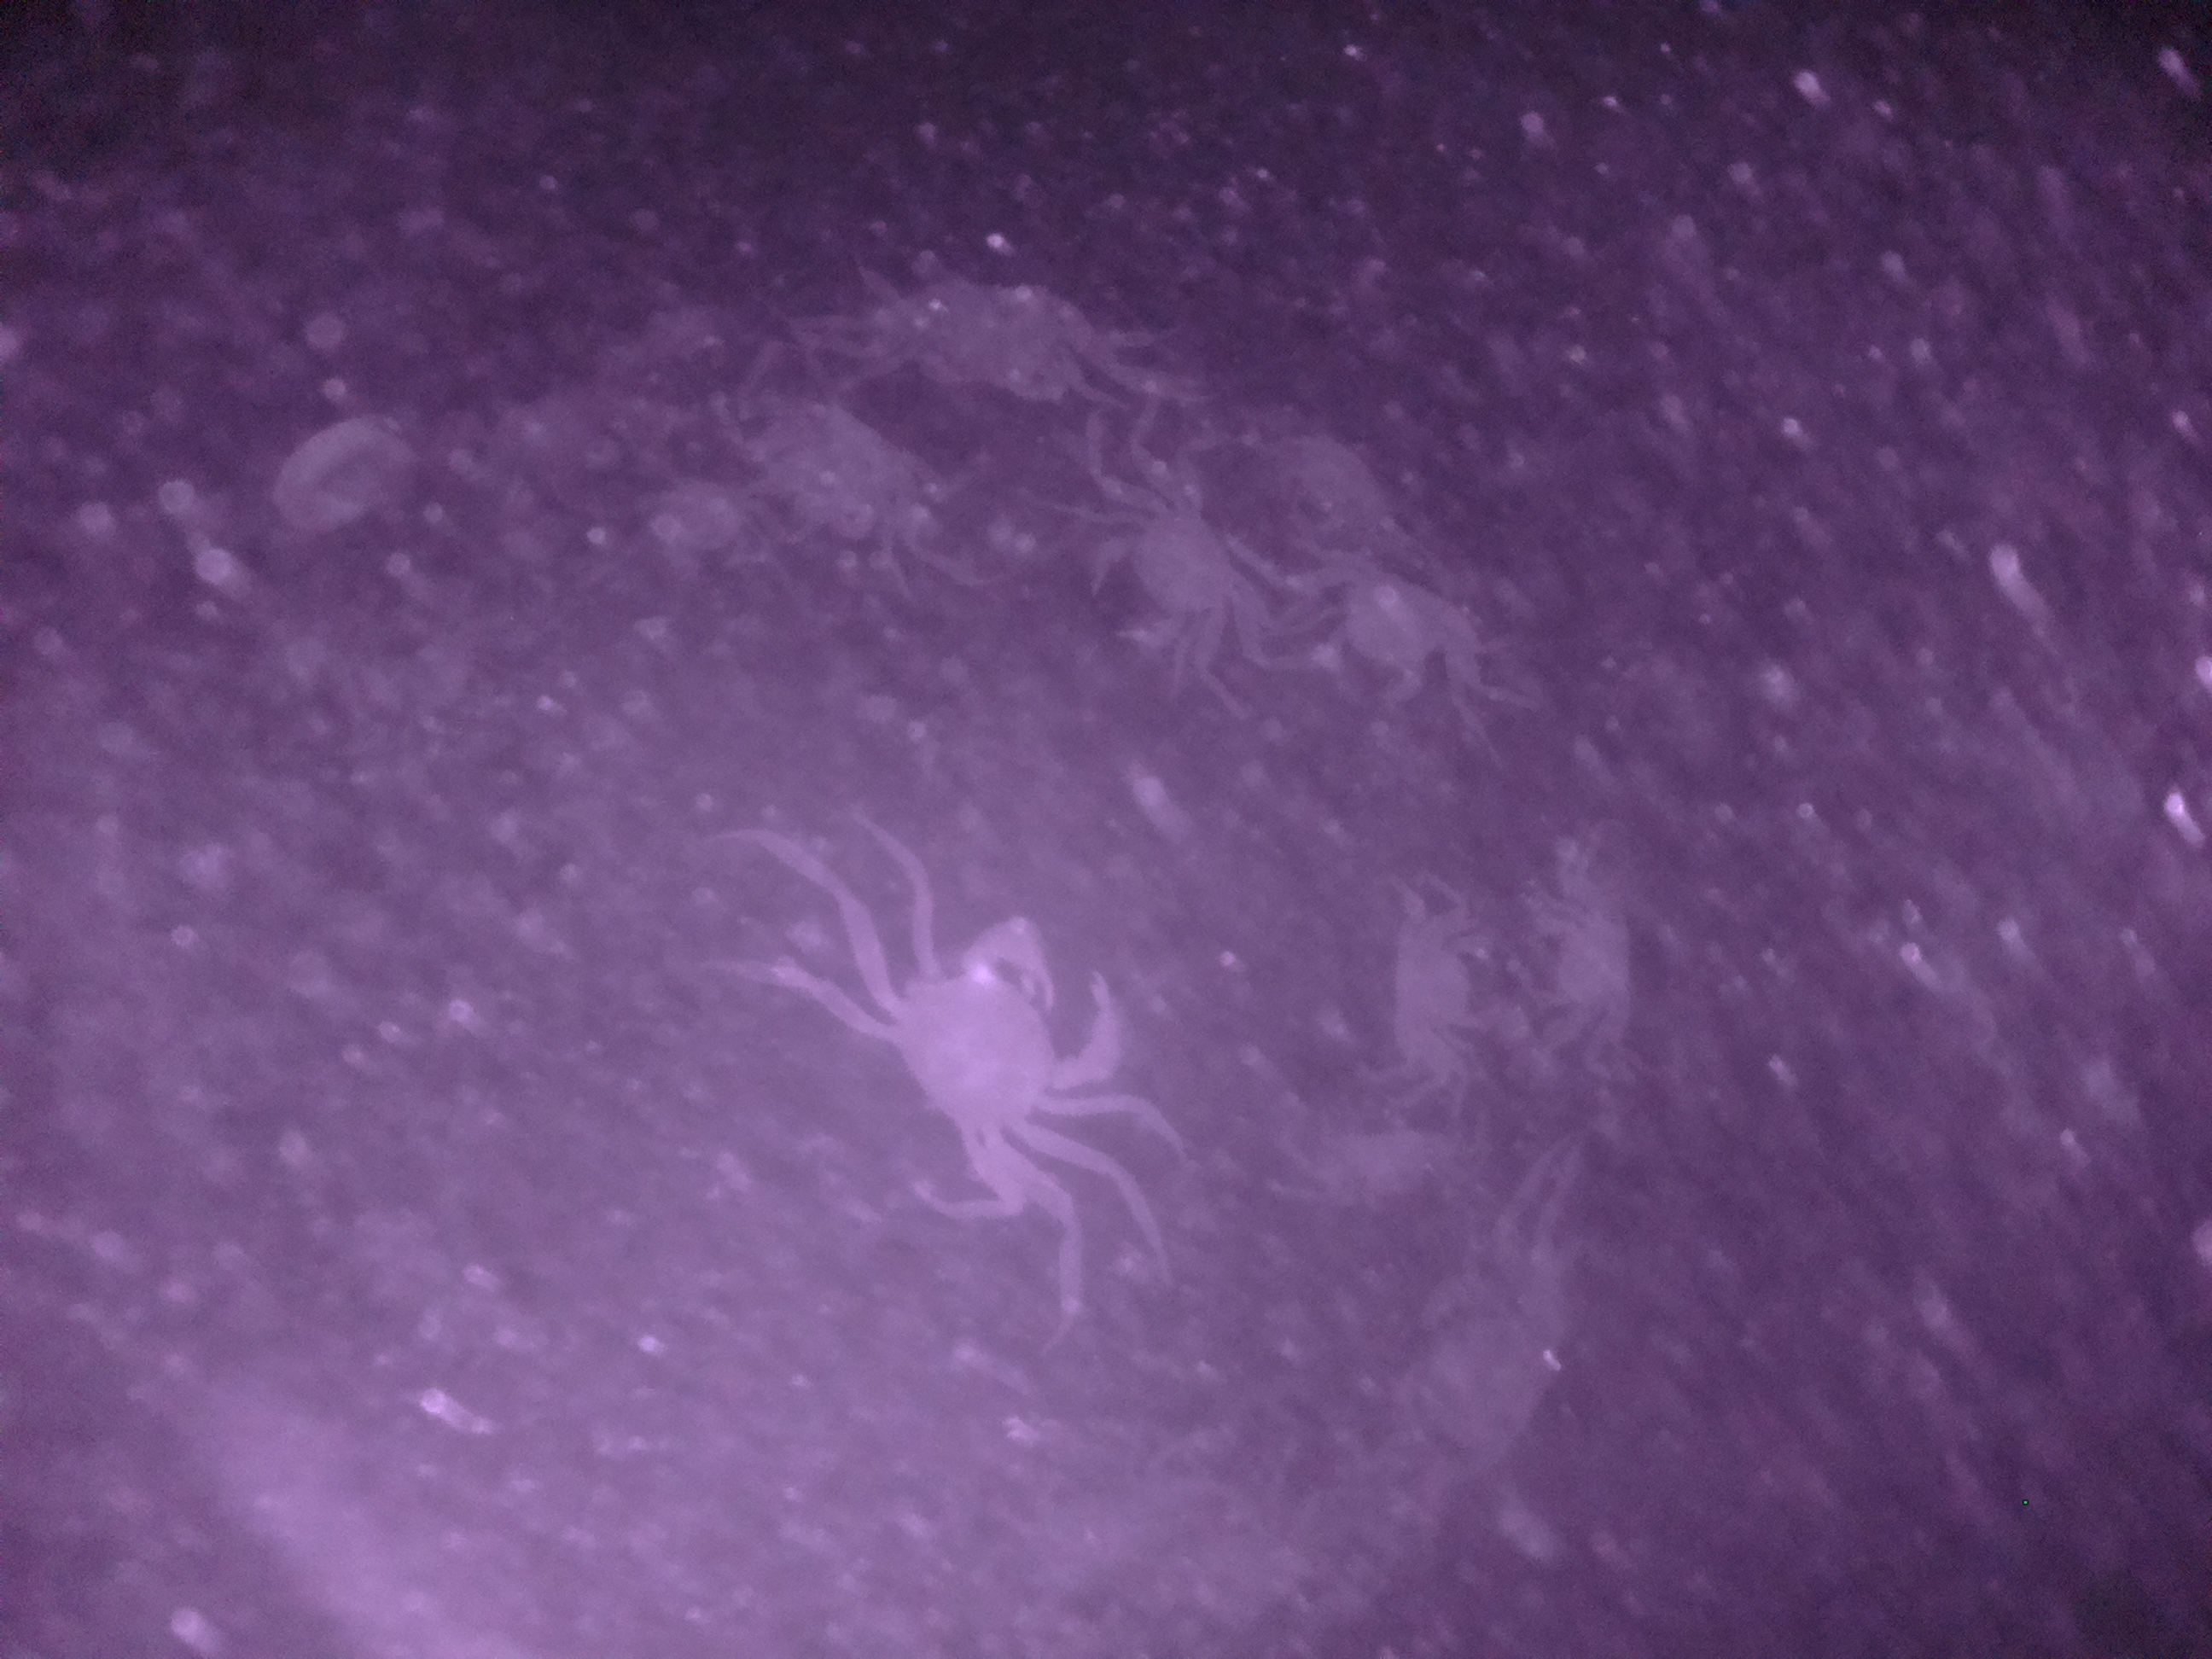Crab: (874, 896, 1148, 1182), (826, 260, 1120, 413), (1075, 474, 1256, 659), (1282, 566, 1484, 702), (1508, 870, 1658, 1046), (1376, 871, 1500, 1080)
